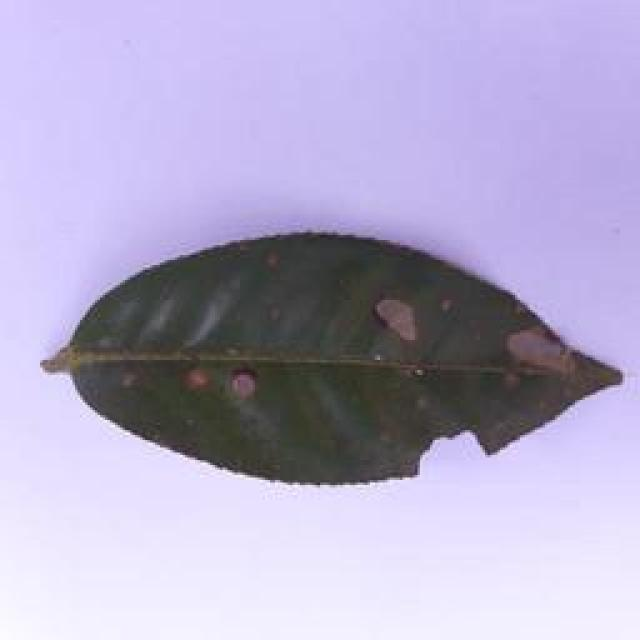Gray Blight: (36, 226, 626, 494)
